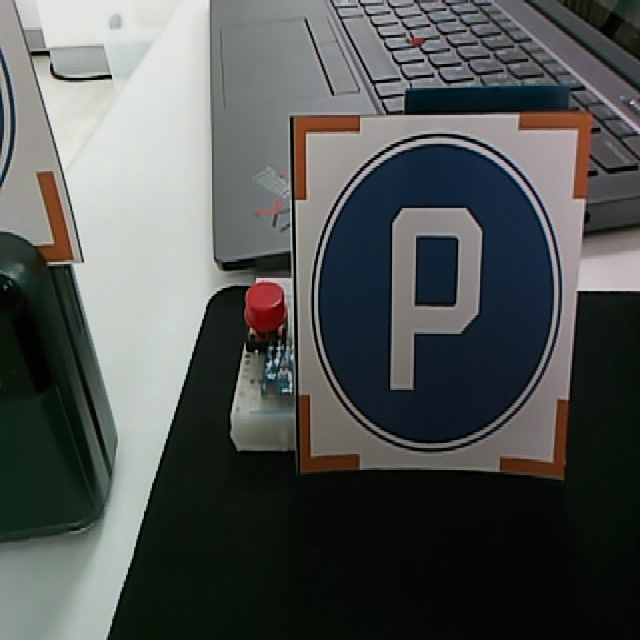parking: (290, 115, 588, 482)
